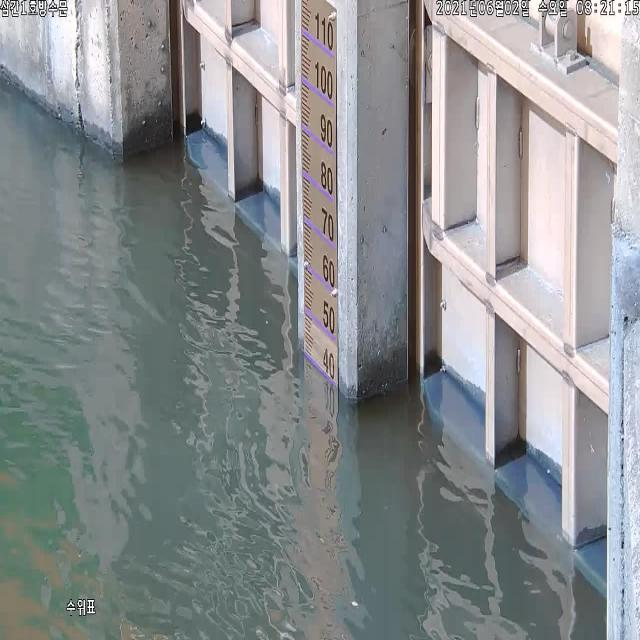ruler: (292, 0, 348, 394)
value: (309, 6, 336, 55), (312, 56, 337, 104), (320, 248, 338, 295), (320, 295, 338, 342), (317, 158, 336, 200), (318, 107, 334, 153), (318, 203, 335, 243), (320, 344, 336, 385)
